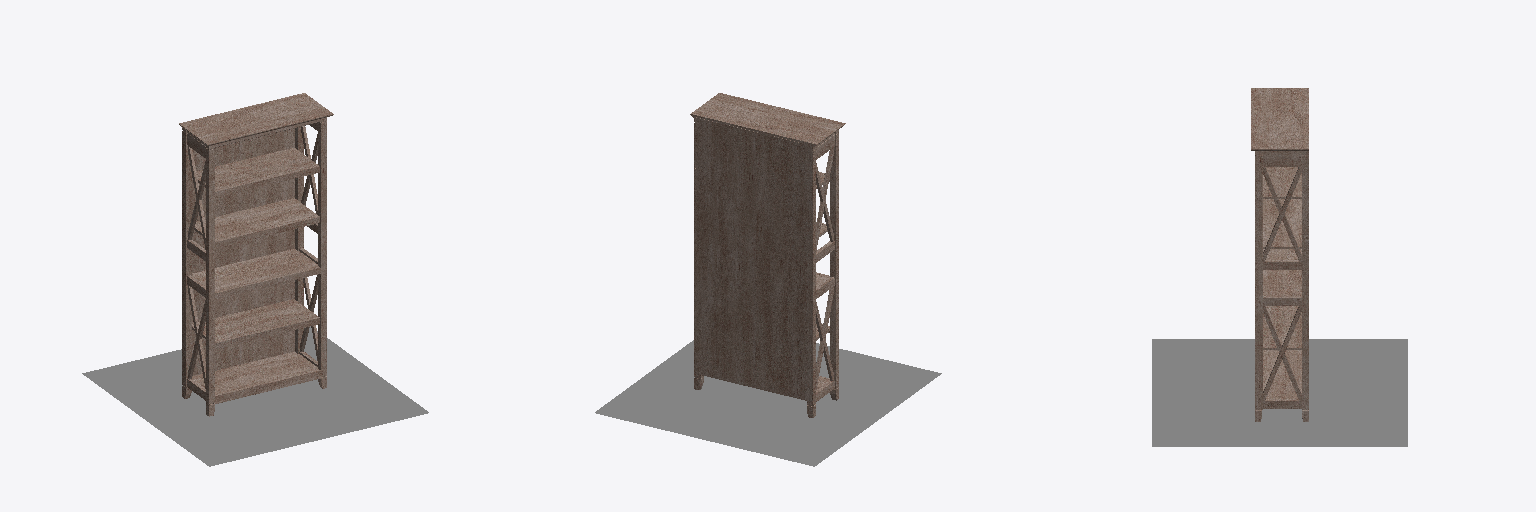
3 views of the same model, side by side, from view 1: azimuth 30°, elevation 25°; view 2: azimuth 150°, elevation 25°; view 3: azimuth 270°, elevation 25° (orthographic).
Parts seen in each view (by area): view 1: not_clear_obj_0_v6, shadow_plane_v6; view 2: not_clear_obj_0_v6, shadow_plane_v6; view 3: shadow_plane_v6, not_clear_obj_0_v6.
Part boxes in pixels (bbox=[...]): not_clear_obj_0_v6: bbox=[179, 93, 333, 416]; shadow_plane_v6: bbox=[82, 326, 428, 466]; not_clear_obj_0_v6: bbox=[690, 93, 845, 417]; shadow_plane_v6: bbox=[595, 340, 941, 466]; shadow_plane_v6: bbox=[1152, 339, 1407, 446]; not_clear_obj_0_v6: bbox=[1251, 88, 1308, 421].
Size of the model in its own units: 141 by 168 by 141.
Materials: 3 (1 with a texture image).